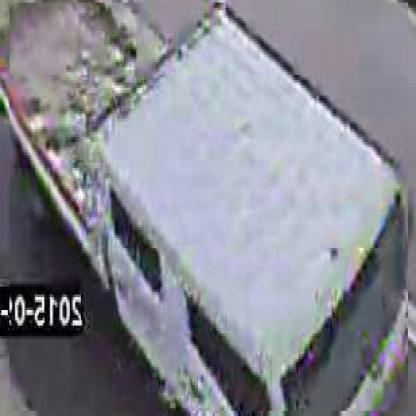truck: (9, 4, 409, 415)
